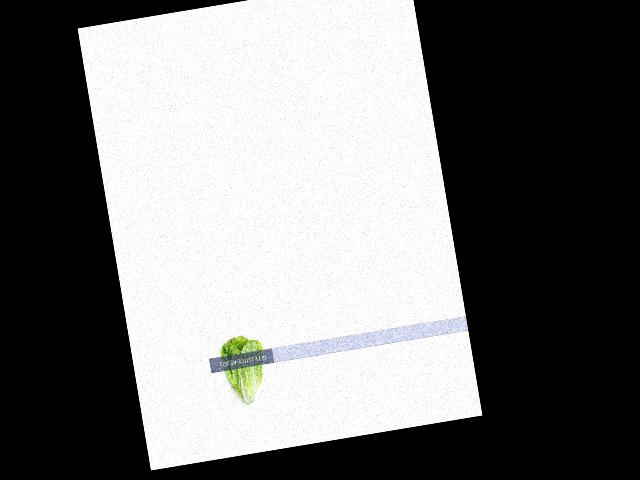lettuce: (214, 332, 274, 414)
